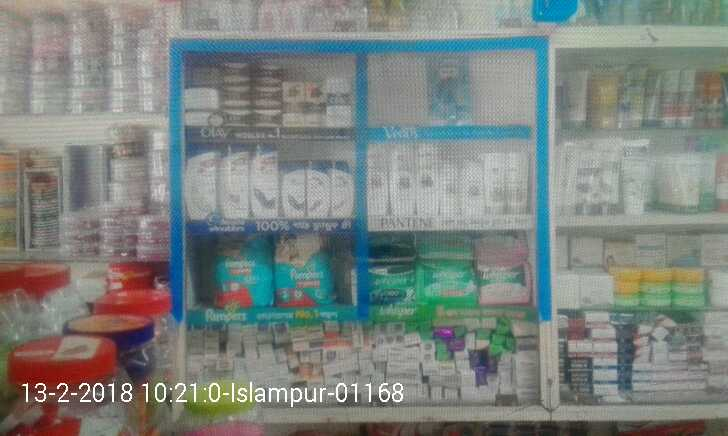venus: (427, 55, 471, 126)
